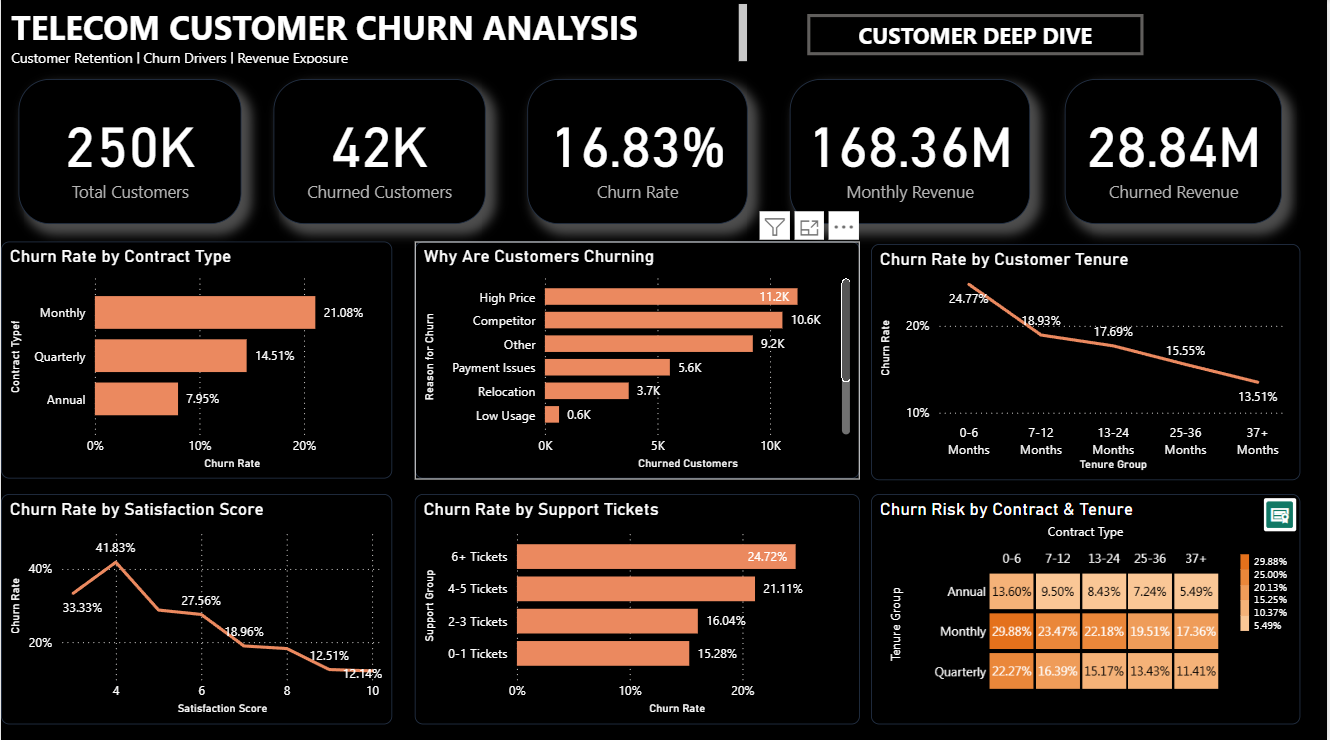

What the dashboard file says about the page in this screenshot:
{"tool":"powerbi","page":{"name":"CHURN ANALYSIS","canvas":[1280,720],"ordinal":0},"visuals":[{"type":"card","fields":{"Values":["customer_churn_analysis.Total Customers"]},"box":[16.5,76.8,215.4,140],"z":0},{"type":"card","fields":{"Values":["customer_churn_analysis.Churned Customers"]},"box":[263.5,76.8,204.5,140],"z":1000},{"type":"card","fields":{"Values":["customer_churn_analysis.Churn Rate"]},"box":[507.7,76.8,212.7,140],"z":2000},{"type":"card","fields":{"Values":["customer_churn_analysis.Monthly Revenue"]},"box":[761.6,76.8,231.9,140],"z":3000},{"type":"card","fields":{"Values":["customer_churn_analysis.Churned Revenue"]},"box":[1026.4,76.8,209.9,140],"z":4000},{"type":"clusteredBarChart","title":"Churn Rate by Contract Type","fields":{"Category":["customer_churn_analysis.Contract_Type"],"Y":["customer_churn_analysis.Churn Rate"]},"box":[0,234.6,377.4,229.2],"z":5000},{"type":"clusteredBarChart","title":"Why Are Customers Churning","fields":{"Category":["customer_churn_analysis.Churn_Reason"],"Y":["customer_churn_analysis.Churned Customers"]},"box":[399.3,234.6,429.5,229.2],"z":6000},{"type":"lineChart","title":"Churn Rate by Customer Tenure","fields":{"Category":["customer_churn_analysis.Tenure_Group"],"Y":["customer_churn_analysis.Churn Rate"]},"box":[839.8,236,414.4,227.8],"z":7000},{"type":"lineChart","title":"Churn Rate by Satisfaction Score","fields":{"Category":["customer_churn_analysis.Satisfaction_Score"],"Y":["customer_churn_analysis.Churn Rate"]},"box":[0,477.5,377.4,222.3],"z":8000},{"type":"clusteredBarChart","title":"Churn Rate by Support Tickets","fields":{"Category":["customer_churn_analysis.Support_Group"],"Y":["customer_churn_analysis.Churn Rate"]},"box":[399.3,477.5,429.5,222.3],"z":9000},{"type":"HeatMap67B54F74B5374B9EA95AC568DC37B14C","title":"Churn Risk by Contract & Tenure","fields":{"yAxis":["customer_churn_analysis.Contract_Type"],"Value":["customer_churn_analysis.Churn Rate"],"xAxis":["customer_churn_analysis.Tenure_Short"]},"box":[839.8,477.5,414.4,222.3],"z":10000},{"type":"textbox","box":[4.8,0,720.2,67.6],"z":11000},{"type":"actionButton","box":[778.2,14.5,324.5,39.8],"z":11005}]}

Visuals, with their boxes in screenshot pixels (x1, y1, x2, y2), scaled from the page's 1280x720 canvas onto the 1330x740 screenshot:
card - customer_churn_analysis.Total Customers: bbox=(17, 79, 241, 223)
card - customer_churn_analysis.Churned Customers: bbox=(274, 79, 486, 223)
card - customer_churn_analysis.Churn Rate: bbox=(528, 79, 749, 223)
card - customer_churn_analysis.Monthly Revenue: bbox=(791, 79, 1032, 223)
card - customer_churn_analysis.Churned Revenue: bbox=(1066, 79, 1285, 223)
"Churn Rate by Contract Type" clusteredBarChart: bbox=(0, 241, 392, 477)
"Why Are Customers Churning" clusteredBarChart: bbox=(415, 241, 861, 477)
"Churn Rate by Customer Tenure" lineChart: bbox=(873, 243, 1303, 477)
"Churn Rate by Satisfaction Score" lineChart: bbox=(0, 491, 392, 719)
"Churn Rate by Support Tickets" clusteredBarChart: bbox=(415, 491, 861, 719)
"Churn Risk by Contract & Tenure" HeatMap67B54F74B5374B9EA95AC568DC37B14C: bbox=(873, 491, 1303, 719)
textbox: bbox=(5, 0, 753, 69)
actionButton: bbox=(809, 15, 1146, 56)
